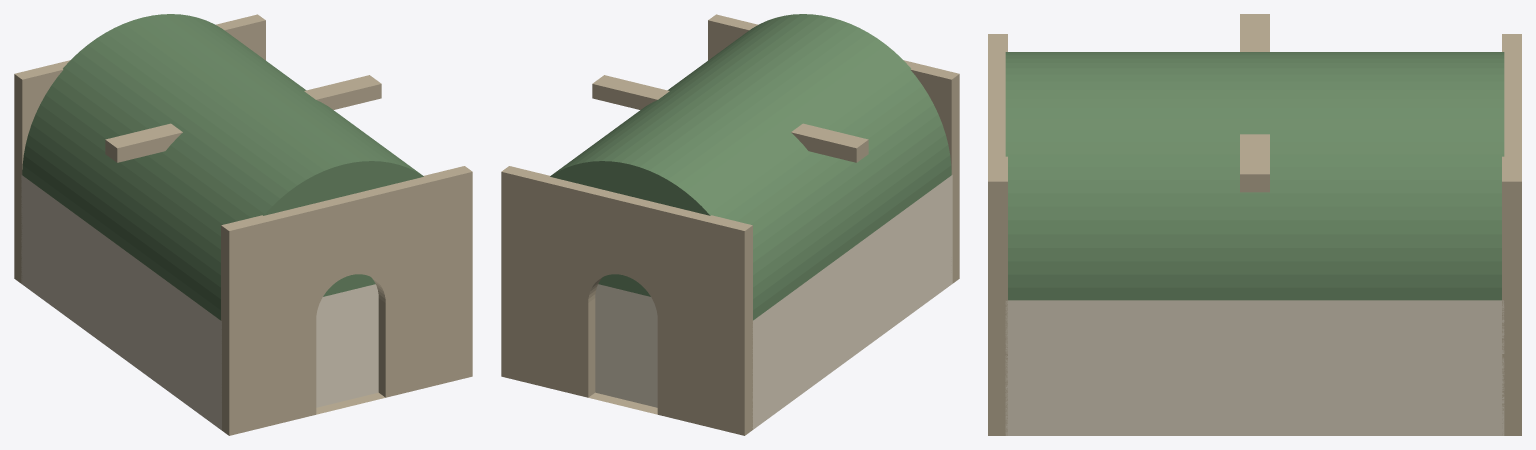
Rendered from curved-hall.gltf.
3 renders of one model, left to right at view 1: azimuth 30°, elevation 25°; view 2: azimuth 150°, elevation 25°; view 3: azimuth 270°, elevation 25°, orthographic. The views are drawn at different scales.
Visible parts, largest first — view 1: curved-hall; view 2: curved-hall; view 3: curved-hall.
Part boxes in pixels (x1,y1,x2,y2): curved-hall: [14, 14, 472, 435]; curved-hall: [501, 14, 959, 435]; curved-hall: [988, 14, 1521, 435].
Bounding box in the file's own units: 7.6 × 6.5 × 10.7.
